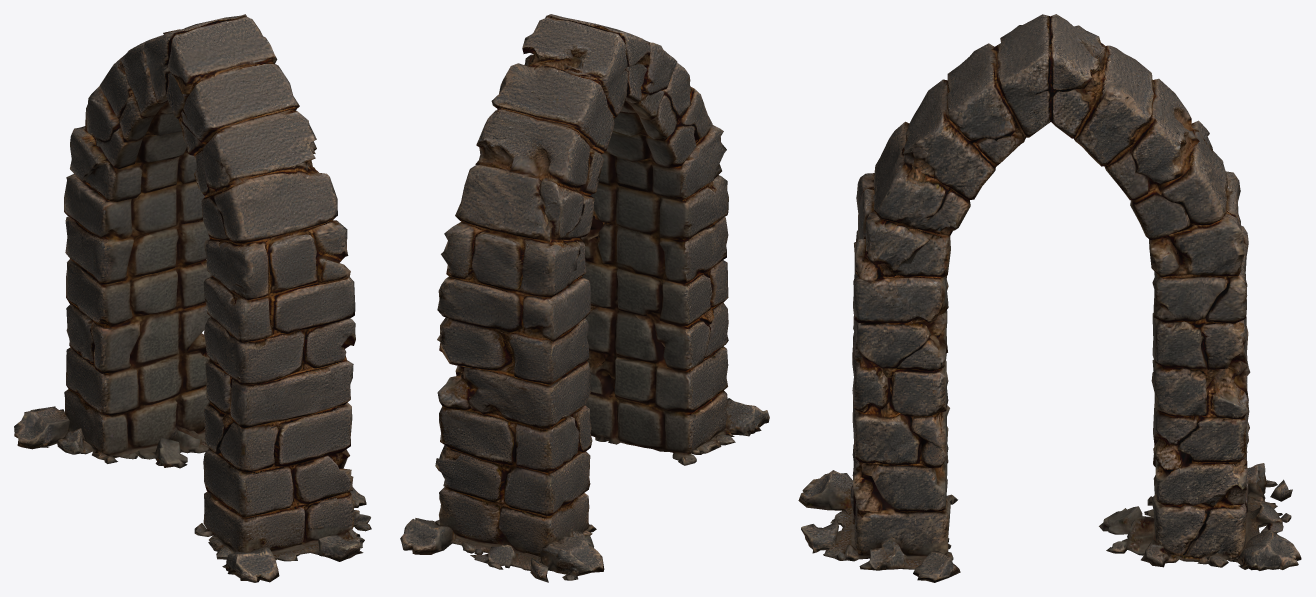
Rendered from door_arch.glb.
3 views of the same model, side by side, from view 1: azimuth 30°, elevation 25°; view 2: azimuth 150°, elevation 25°; view 3: azimuth 270°, elevation 25° (orthographic). The views are drawn at different scales.
Parts seen in each view (by area): view 1: tripo_node_afc7e1f7-4add-4a43-9f55-f6a3e205bd18; view 2: tripo_node_afc7e1f7-4add-4a43-9f55-f6a3e205bd18; view 3: tripo_node_afc7e1f7-4add-4a43-9f55-f6a3e205bd18.
Part boxes in pixels (bbox=[...]): tripo_node_afc7e1f7-4add-4a43-9f55-f6a3e205bd18: bbox=[14, 14, 371, 582]; tripo_node_afc7e1f7-4add-4a43-9f55-f6a3e205bd18: bbox=[400, 14, 769, 582]; tripo_node_afc7e1f7-4add-4a43-9f55-f6a3e205bd18: bbox=[798, 14, 1301, 582].
Bounding box in the file's own units: 0.4669 × 1 × 0.9142.
Materials: 1 (1 with a texture image).
